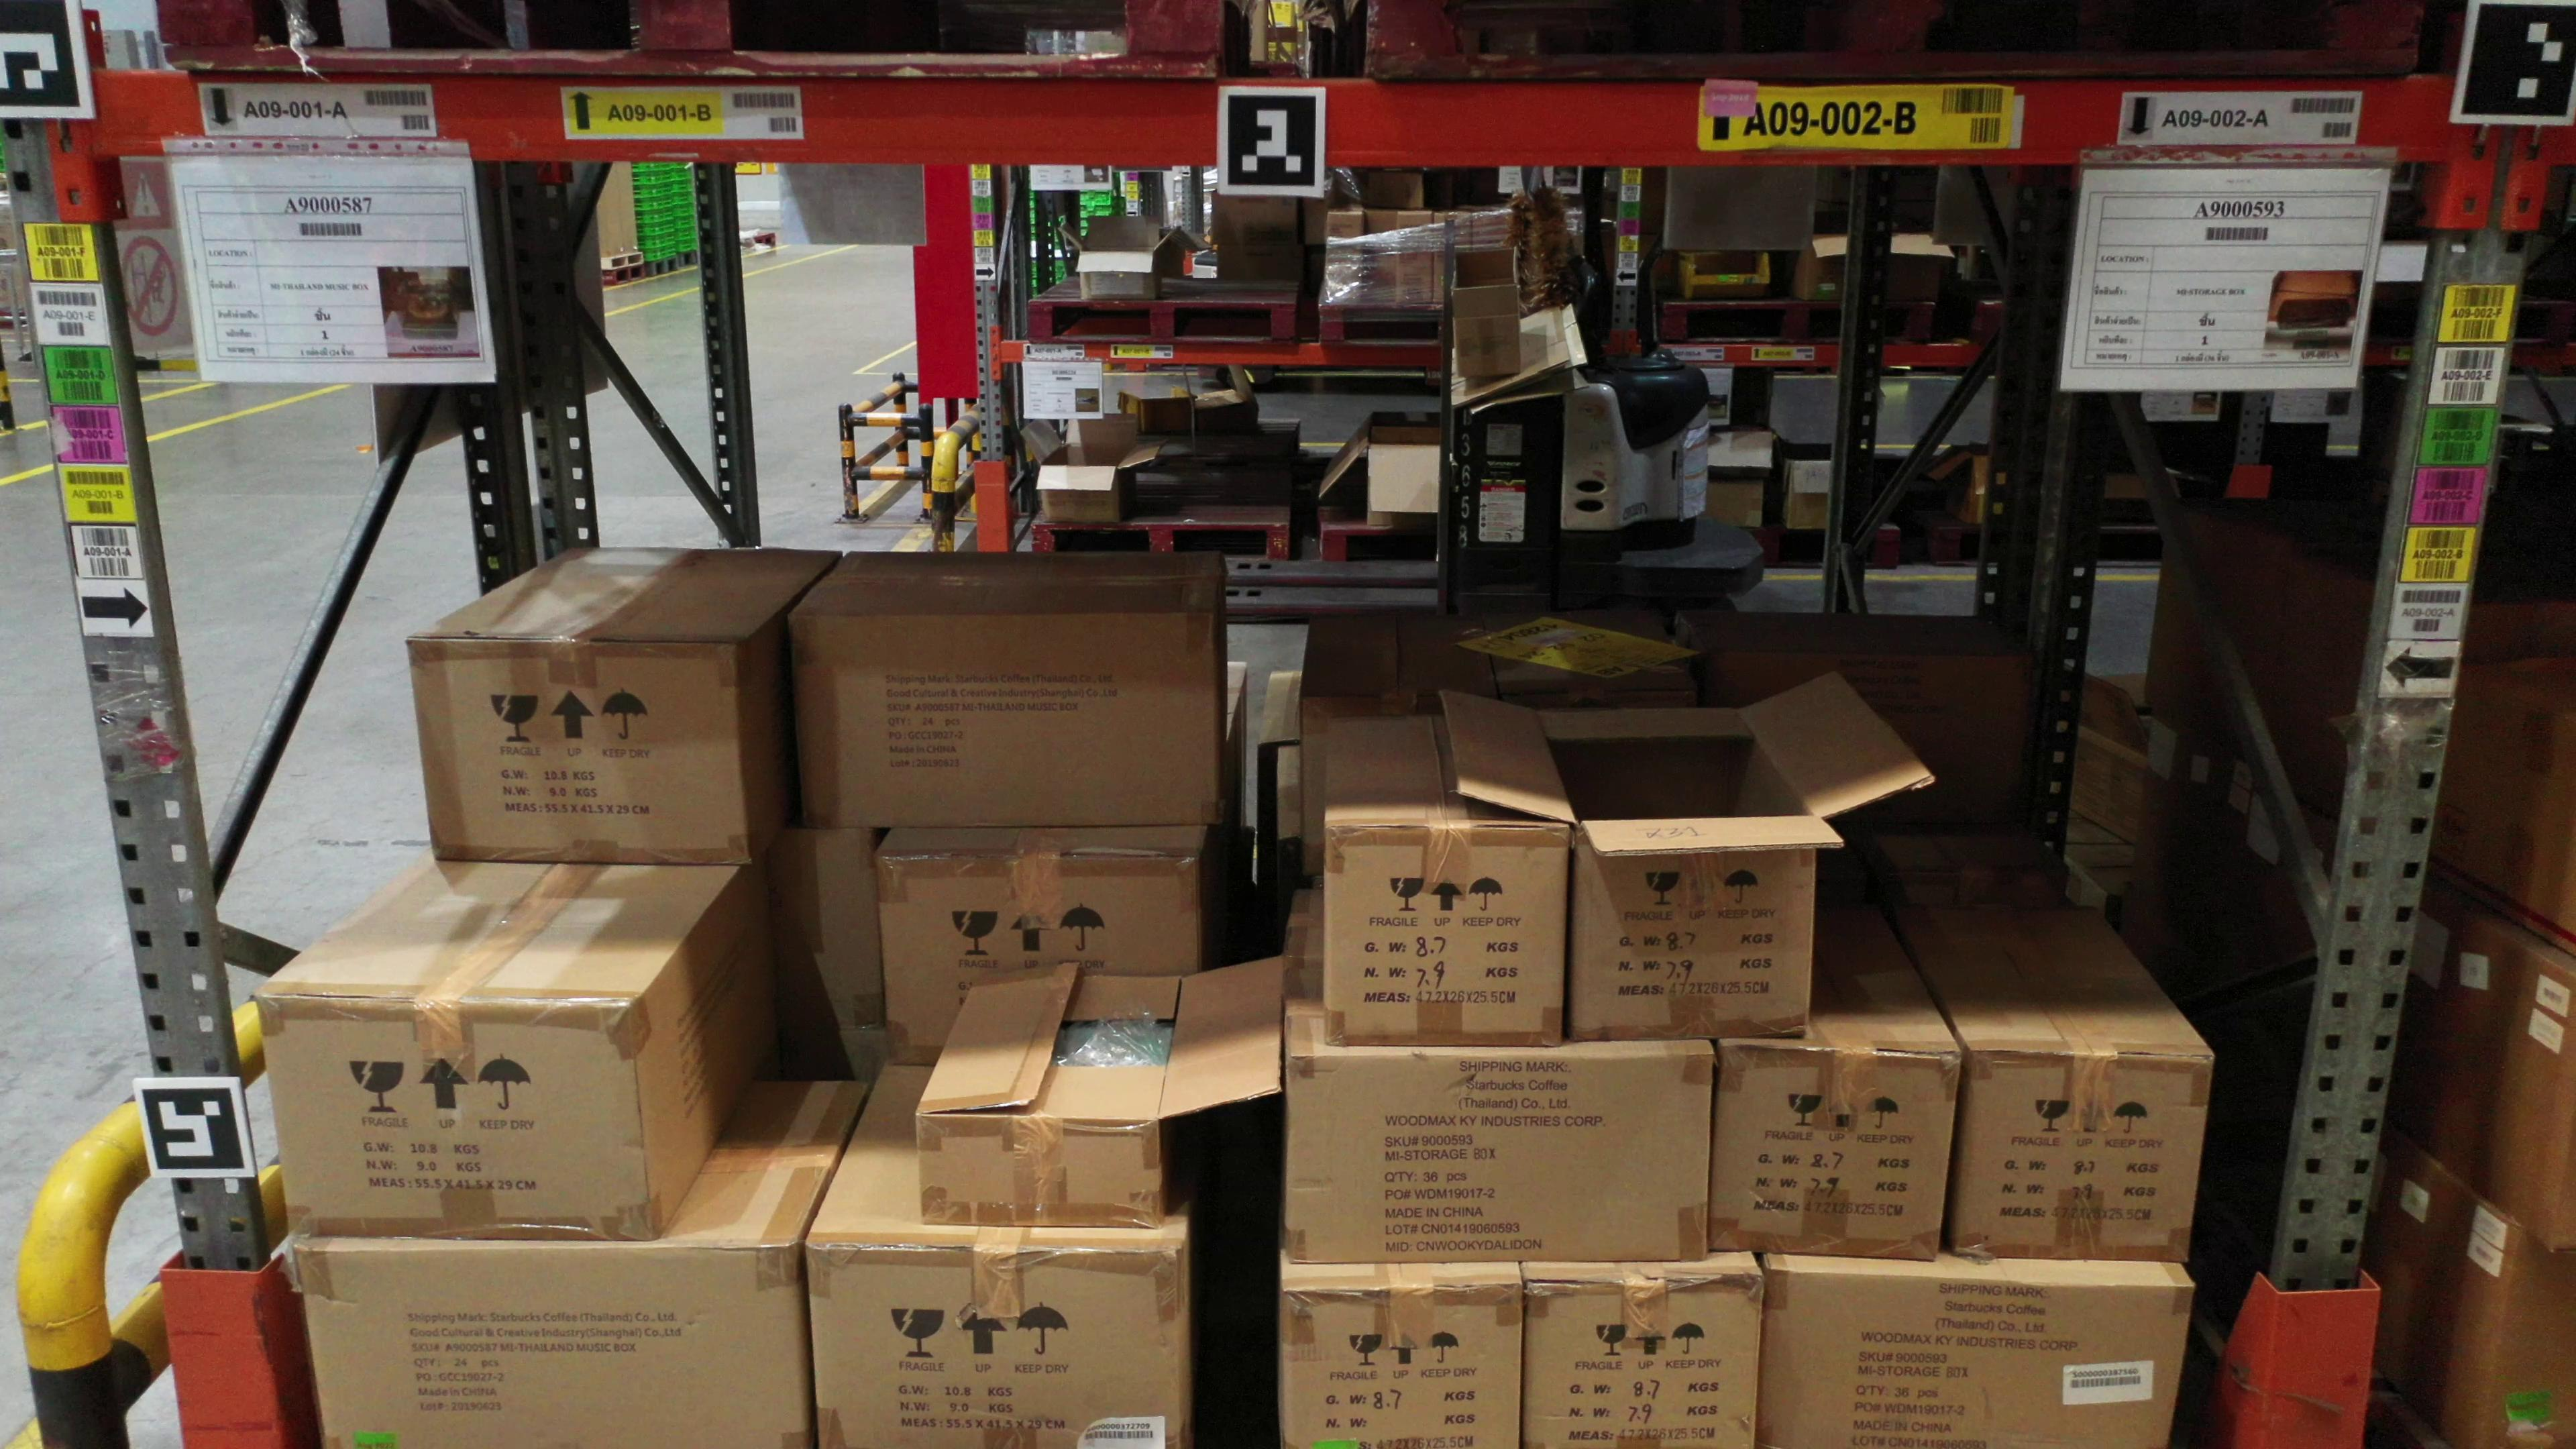-: (290, 1246, 812, 1449), (782, 609, 1226, 832), (255, 998, 655, 1244), (1286, 1053, 1714, 1265), (1753, 1270, 2192, 1449), (803, 1244, 1184, 1449), (412, 639, 754, 865), (1951, 1049, 2219, 1269), (1323, 824, 1569, 1053), (1713, 1042, 1964, 1263), (1575, 828, 1819, 1044), (1525, 1277, 1764, 1449), (1281, 1286, 1525, 1449), (918, 1104, 1162, 1235)
